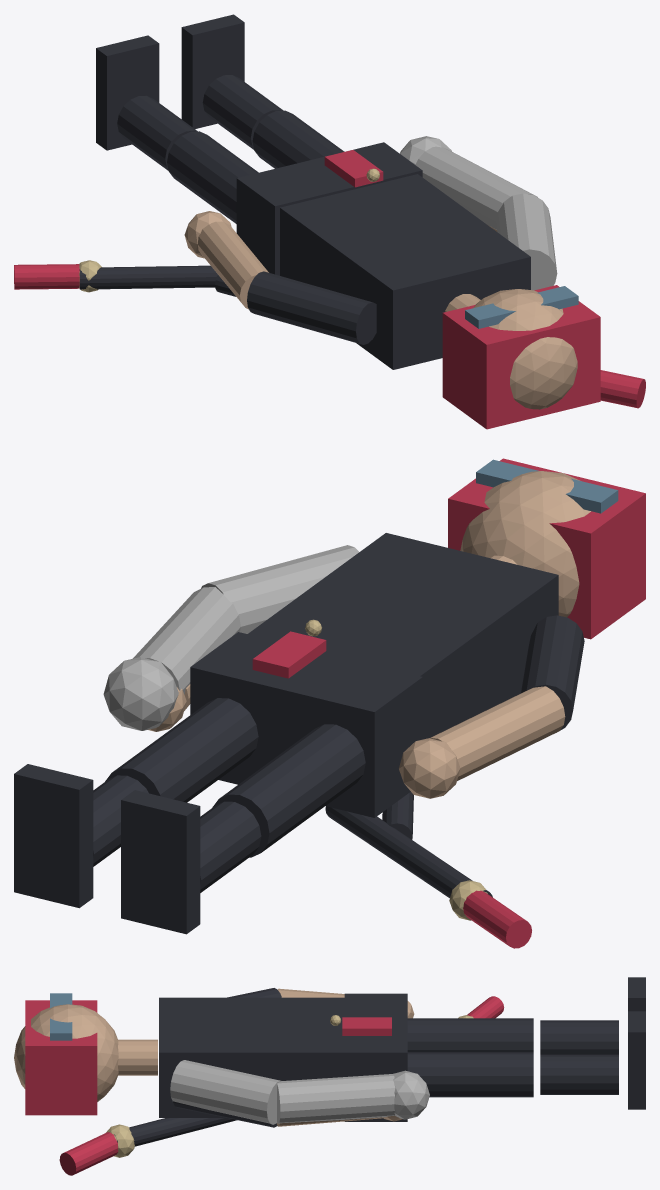
The model's file is 06_redline_visor.glb.
The picture shows the model from 3 angles, top to bottom: view 1: azimuth 30°, elevation 25°; view 2: azimuth 150°, elevation 25°; view 3: azimuth 270°, elevation 25°; orthographic projection. The views are drawn at different scales.
Visible parts, largest first — view 1: redline_torso, redline_red_helmet, redline_hips, redline_head, redline_upper_arm_-1, redline_shoe_-1, redline_shoe_1, redline_upper_leg_-1, redline_cyber_forearm, redline_cyber_upper_arm, redline_upper_leg_1, redline_lower_leg_-1 (+9 smaller); view 2: redline_torso, redline_hips, redline_red_helmet, redline_shoe_-1, redline_shoe_1, redline_head, redline_upper_leg_-1, redline_upper_leg_1, redline_forearm_-1, redline_cyber_forearm, redline_cyber_upper_arm, redline_upper_arm_-1 (+9 smaller); view 3: redline_torso, redline_red_helmet, redline_upper_leg_1, redline_cyber_forearm, redline_cyber_upper_arm, redline_hips, redline_upper_leg_-1, redline_head, redline_lower_leg_1, redline_lower_leg_-1, redline_shoe_1, redline_back_sheath (+11 smaller).
Part boxes in pixels (<box>): redline_torso: <box>280,174,530,369</box>; redline_red_helmet: <box>442,285,600,429</box>; redline_hips: <box>236,142,422,275</box>; redline_head: <box>473,289,577,409</box>; redline_upper_arm_-1: <box>247,271,376,344</box>; redline_shoe_-1: <box>96,35,159,150</box>; redline_shoe_1: <box>181,14,244,128</box>; redline_upper_leg_-1: <box>167,131,258,223</box>; redline_cyber_forearm: <box>415,146,537,229</box>; redline_cyber_upper_arm: <box>496,193,557,290</box>; redline_upper_leg_1: <box>252,110,344,168</box>; redline_lower_leg_-1: <box>117,95,197,170</box>; redline_torso: <box>247,533,558,739</box>; redline_hips: <box>190,632,422,817</box>; redline_red_helmet: <box>448,458,645,639</box>; redline_shoe_-1: <box>121,790,200,934</box>; redline_shoe_1: <box>14,764,93,908</box>; redline_head: <box>460,471,590,617</box>; redline_upper_leg_-1: <box>212,724,365,857</box>; redline_upper_leg_1: <box>105,698,258,802</box>; redline_forearm_-1: <box>430,686,565,780</box>; redline_cyber_forearm: <box>133,587,240,694</box>; redline_cyber_upper_arm: <box>201,545,359,633</box>; redline_upper_arm_-1: <box>521,615,584,730</box>; redline_torso: <box>159,997,344,1117</box>; redline_red_helmet: <box>25,1000,97,1115</box>; redline_upper_leg_1: <box>407,1052,533,1097</box>; redline_cyber_forearm: <box>277,1074,395,1123</box>; redline_cyber_upper_arm: <box>170,1060,281,1124</box>; redline_hips: <box>344,993,407,1121</box>; redline_upper_leg_-1: <box>407,1018,533,1052</box>; redline_head: <box>14,1004,118,1101</box>; redline_lower_leg_1: <box>540,1054,618,1094</box>; redline_lower_leg_-1: <box>540,1020,618,1054</box>; redline_shoe_1: <box>628,1011,645,1109</box>; redline_back_sheath: <box>114,1118,237,1146</box>.
Bounding box in the file's own units: 1.7 × 0.595 × 2.81.
